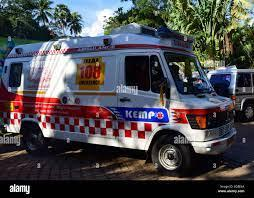ER: (0, 23, 234, 174)
